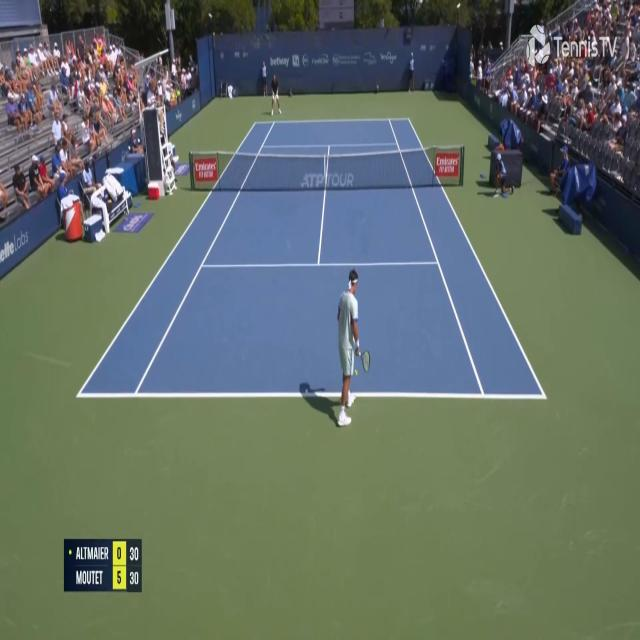tennis-player: (333, 266, 369, 430), (268, 72, 281, 116)
